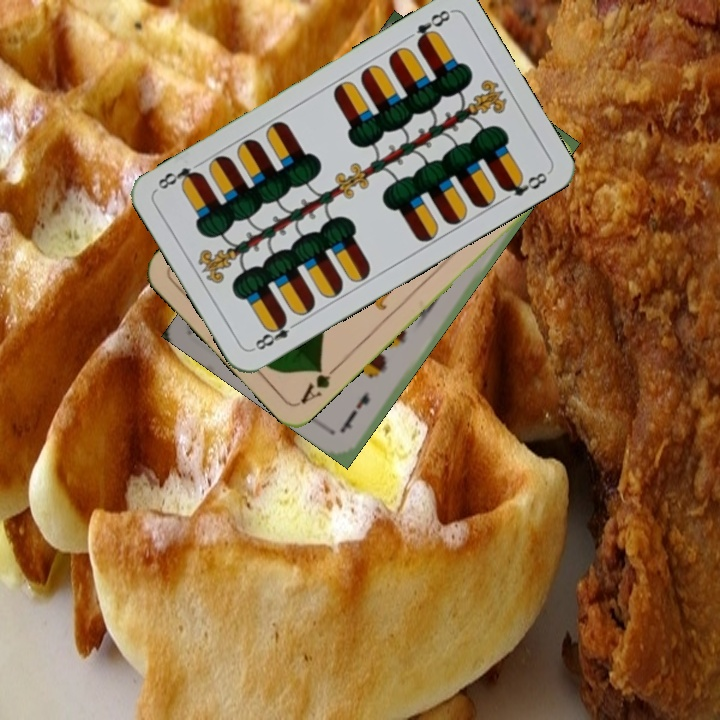E7: (337, 387, 373, 434)
E8: (248, 314, 302, 353), (412, 6, 453, 49)
GA: (296, 360, 342, 407)
